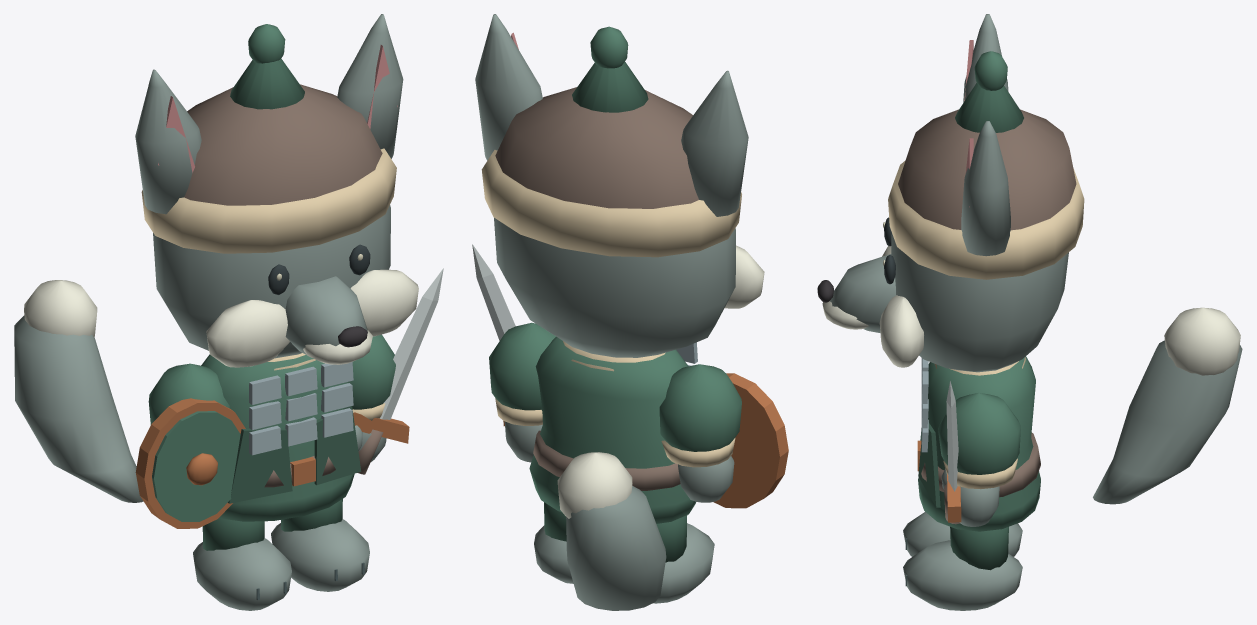
Rendered from warrior.glb.
3 views of the same model, side by side, from view 1: azimuth 30°, elevation 25°; view 2: azimuth 150°, elevation 25°; view 3: azimuth 270°, elevation 25° (orthographic). The views are drawn at different scales.
Visible parts, largest first — view 1: Regional helmet, Plush sweeping tail, Animal cheek head, Fur hat brim, Short folded tunic, Regional shield face, Tall animal ear, Soft animal paw, Soft animal paw.001, Tall animal ear.001, Light cheek fluff, Long pointed muzzle (+25 smaller); view 2: Animal cheek head, Regional helmet, Short folded tunic, Fur hat brim, Plush sweeping tail, Tall animal ear, Puff sleeve, Shield gold rim, Tall animal ear.001, Puff sleeve.001, Tail pale tip, Mongol pointed cap (+13 smaller); view 3: Animal cheek head, Regional helmet, Plush sweeping tail, Fur hat brim, Short folded tunic, Soft animal paw.001, Tall animal ear.001, Puff sleeve.001, Tail pale tip, Long pointed muzzle, Light cheek fluff.001, Mongol pointed cap (+10 smaller).
Boxes of the visible parts, x1=… form: Regional helmet: x1=184, y1=84, x2=382, y2=205; Plush sweeping tail: x1=14, y1=315, x2=143, y2=502; Animal cheek head: x1=153, y1=205, x2=390, y2=358; Fur hat brim: x1=141, y1=148, x2=396, y2=253; Short folded tunic: x1=201, y1=354, x2=354, y2=521; Regional shield face: x1=152, y1=411, x2=240, y2=521; Tall animal ear: x1=135, y1=69, x2=201, y2=214; Soft animal paw: x1=193, y1=538, x2=291, y2=610; Soft animal paw.001: x1=271, y1=519, x2=369, y2=591; Tall animal ear.001: x1=337, y1=14, x2=403, y2=158; Light cheek fluff: x1=206, y1=300, x2=289, y2=367; Long pointed muzzle: x1=285, y1=276, x2=367, y2=354; Animal cheek head: x1=494, y1=218, x2=735, y2=357; Regional helmet: x1=495, y1=87, x2=698, y2=208; Short folded tunic: x1=529, y1=336, x2=695, y2=523; Fur hat brim: x1=481, y1=150, x2=741, y2=257; Plush sweeping tail: x1=566, y1=486, x2=666, y2=610; Tall animal ear: x1=681, y1=70, x2=748, y2=216; Puff sleeve: x1=659, y1=364, x2=741, y2=451; Shield gold rim: x1=713, y1=373, x2=788, y2=508; Tall animal ear.001: x1=475, y1=14, x2=542, y2=160; Puff sleeve.001: x1=489, y1=322, x2=555, y2=410; Tail pale tip: x1=557, y1=452, x2=632, y2=518; Mongol pointed cap: x1=572, y1=62, x2=648, y2=112; Animal cheek head: x1=891, y1=233, x2=1068, y2=372; Regional helmet: x1=898, y1=109, x2=1076, y2=230; Plush sweeping tail: x1=1093, y1=340, x2=1242, y2=504; Fur hat brim: x1=888, y1=160, x2=1084, y2=279; Short folded tunic: x1=918, y1=356, x2=1040, y2=531; Soft animal paw.001: x1=903, y1=540, x2=1022, y2=610; Tall animal ear.001: x1=961, y1=121, x2=1010, y2=256; Puff sleeve.001: x1=938, y1=393, x2=1020, y2=474; Tail pale tip: x1=1164, y1=307, x2=1240, y2=375; Long pointed muzzle: x1=830, y1=254, x2=896, y2=332; Light cheek fluff.001: x1=879, y1=295, x2=923, y2=367; Mongol pointed cap: x1=955, y1=83, x2=1023, y2=132.
Bounding box in the file's own units: 1.02 × 1.78 × 1.28.
